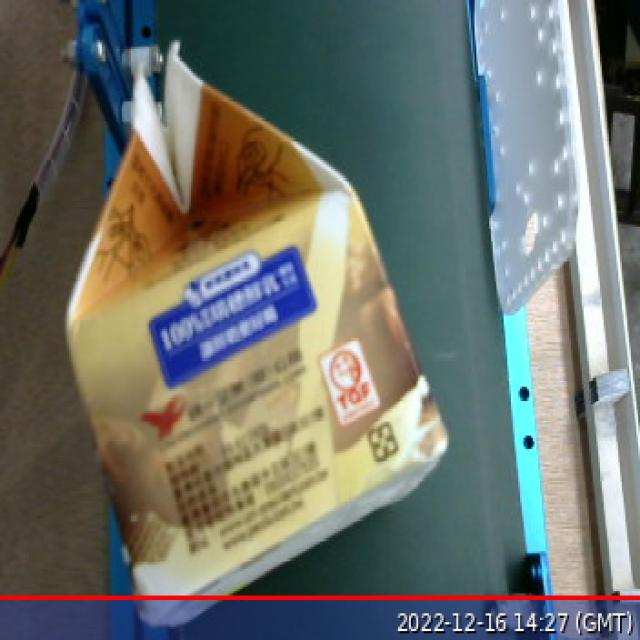non_white_jug: (21, 36, 491, 639)
